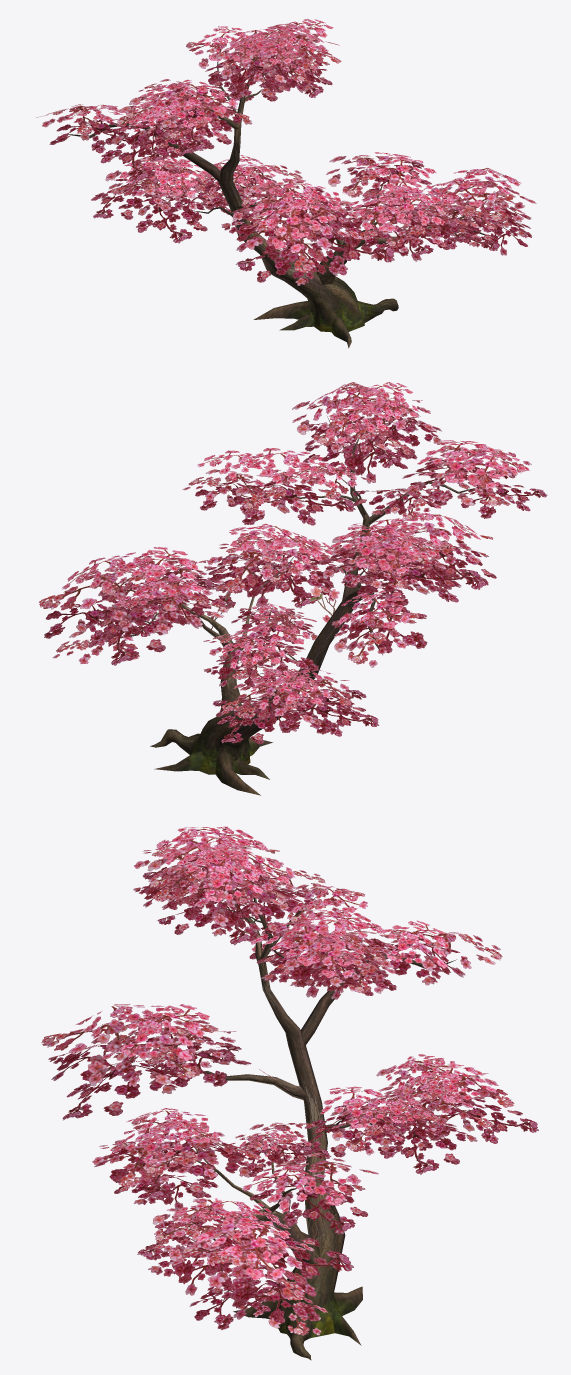
File: S_Tree_Red002.FBX
The picture shows the model from 3 angles, top to bottom: view 1: azimuth 30°, elevation 25°; view 2: azimuth 150°, elevation 25°; view 3: azimuth 270°, elevation 25°; orthographic projection. The views are drawn at different scales.
Visible parts, largest first — view 1: S_Tree_Red002_2, S_Tree_Red002_1; view 2: S_Tree_Red002_2, S_Tree_Red002_1; view 3: S_Tree_Red002_2, S_Tree_Red002_1.
Boxes of the visible parts, x1,y1,x2,y2 form: S_Tree_Red002_2: (36, 18, 536, 285); S_Tree_Red002_1: (68, 56, 502, 348); S_Tree_Red002_2: (39, 382, 547, 744); S_Tree_Red002_1: (120, 416, 477, 795); S_Tree_Red002_2: (41, 826, 538, 1335); S_Tree_Red002_1: (175, 882, 456, 1360).
Size of the model in its own units: 697 by 485 by 575.
